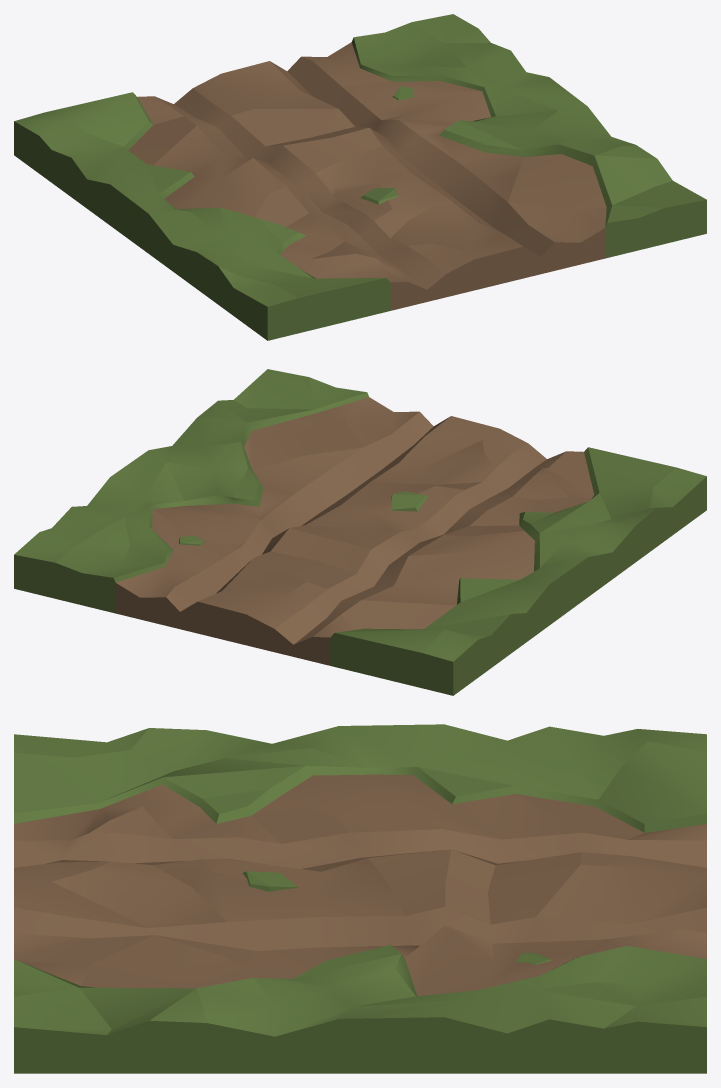
The model's file is Ground_Road_V.glb.
3 views of the same model, one above another, from view 1: azimuth 30°, elevation 25°; view 2: azimuth 150°, elevation 25°; view 3: azimuth 270°, elevation 25° (orthographic). The views are drawn at different scales.
Visible parts, largest first — view 1: Ground_Road_V; view 2: Ground_Road_V; view 3: Ground_Road_V.
Part boxes in pixels (x1=…): Ground_Road_V: x1=14, y1=14, x2=706, y2=340; Ground_Road_V: x1=14, y1=369, x2=706, y2=695; Ground_Road_V: x1=14, y1=724, x2=706, y2=1073.
Size of the model in its own units: 1.47 by 0.1393 by 1.47.
